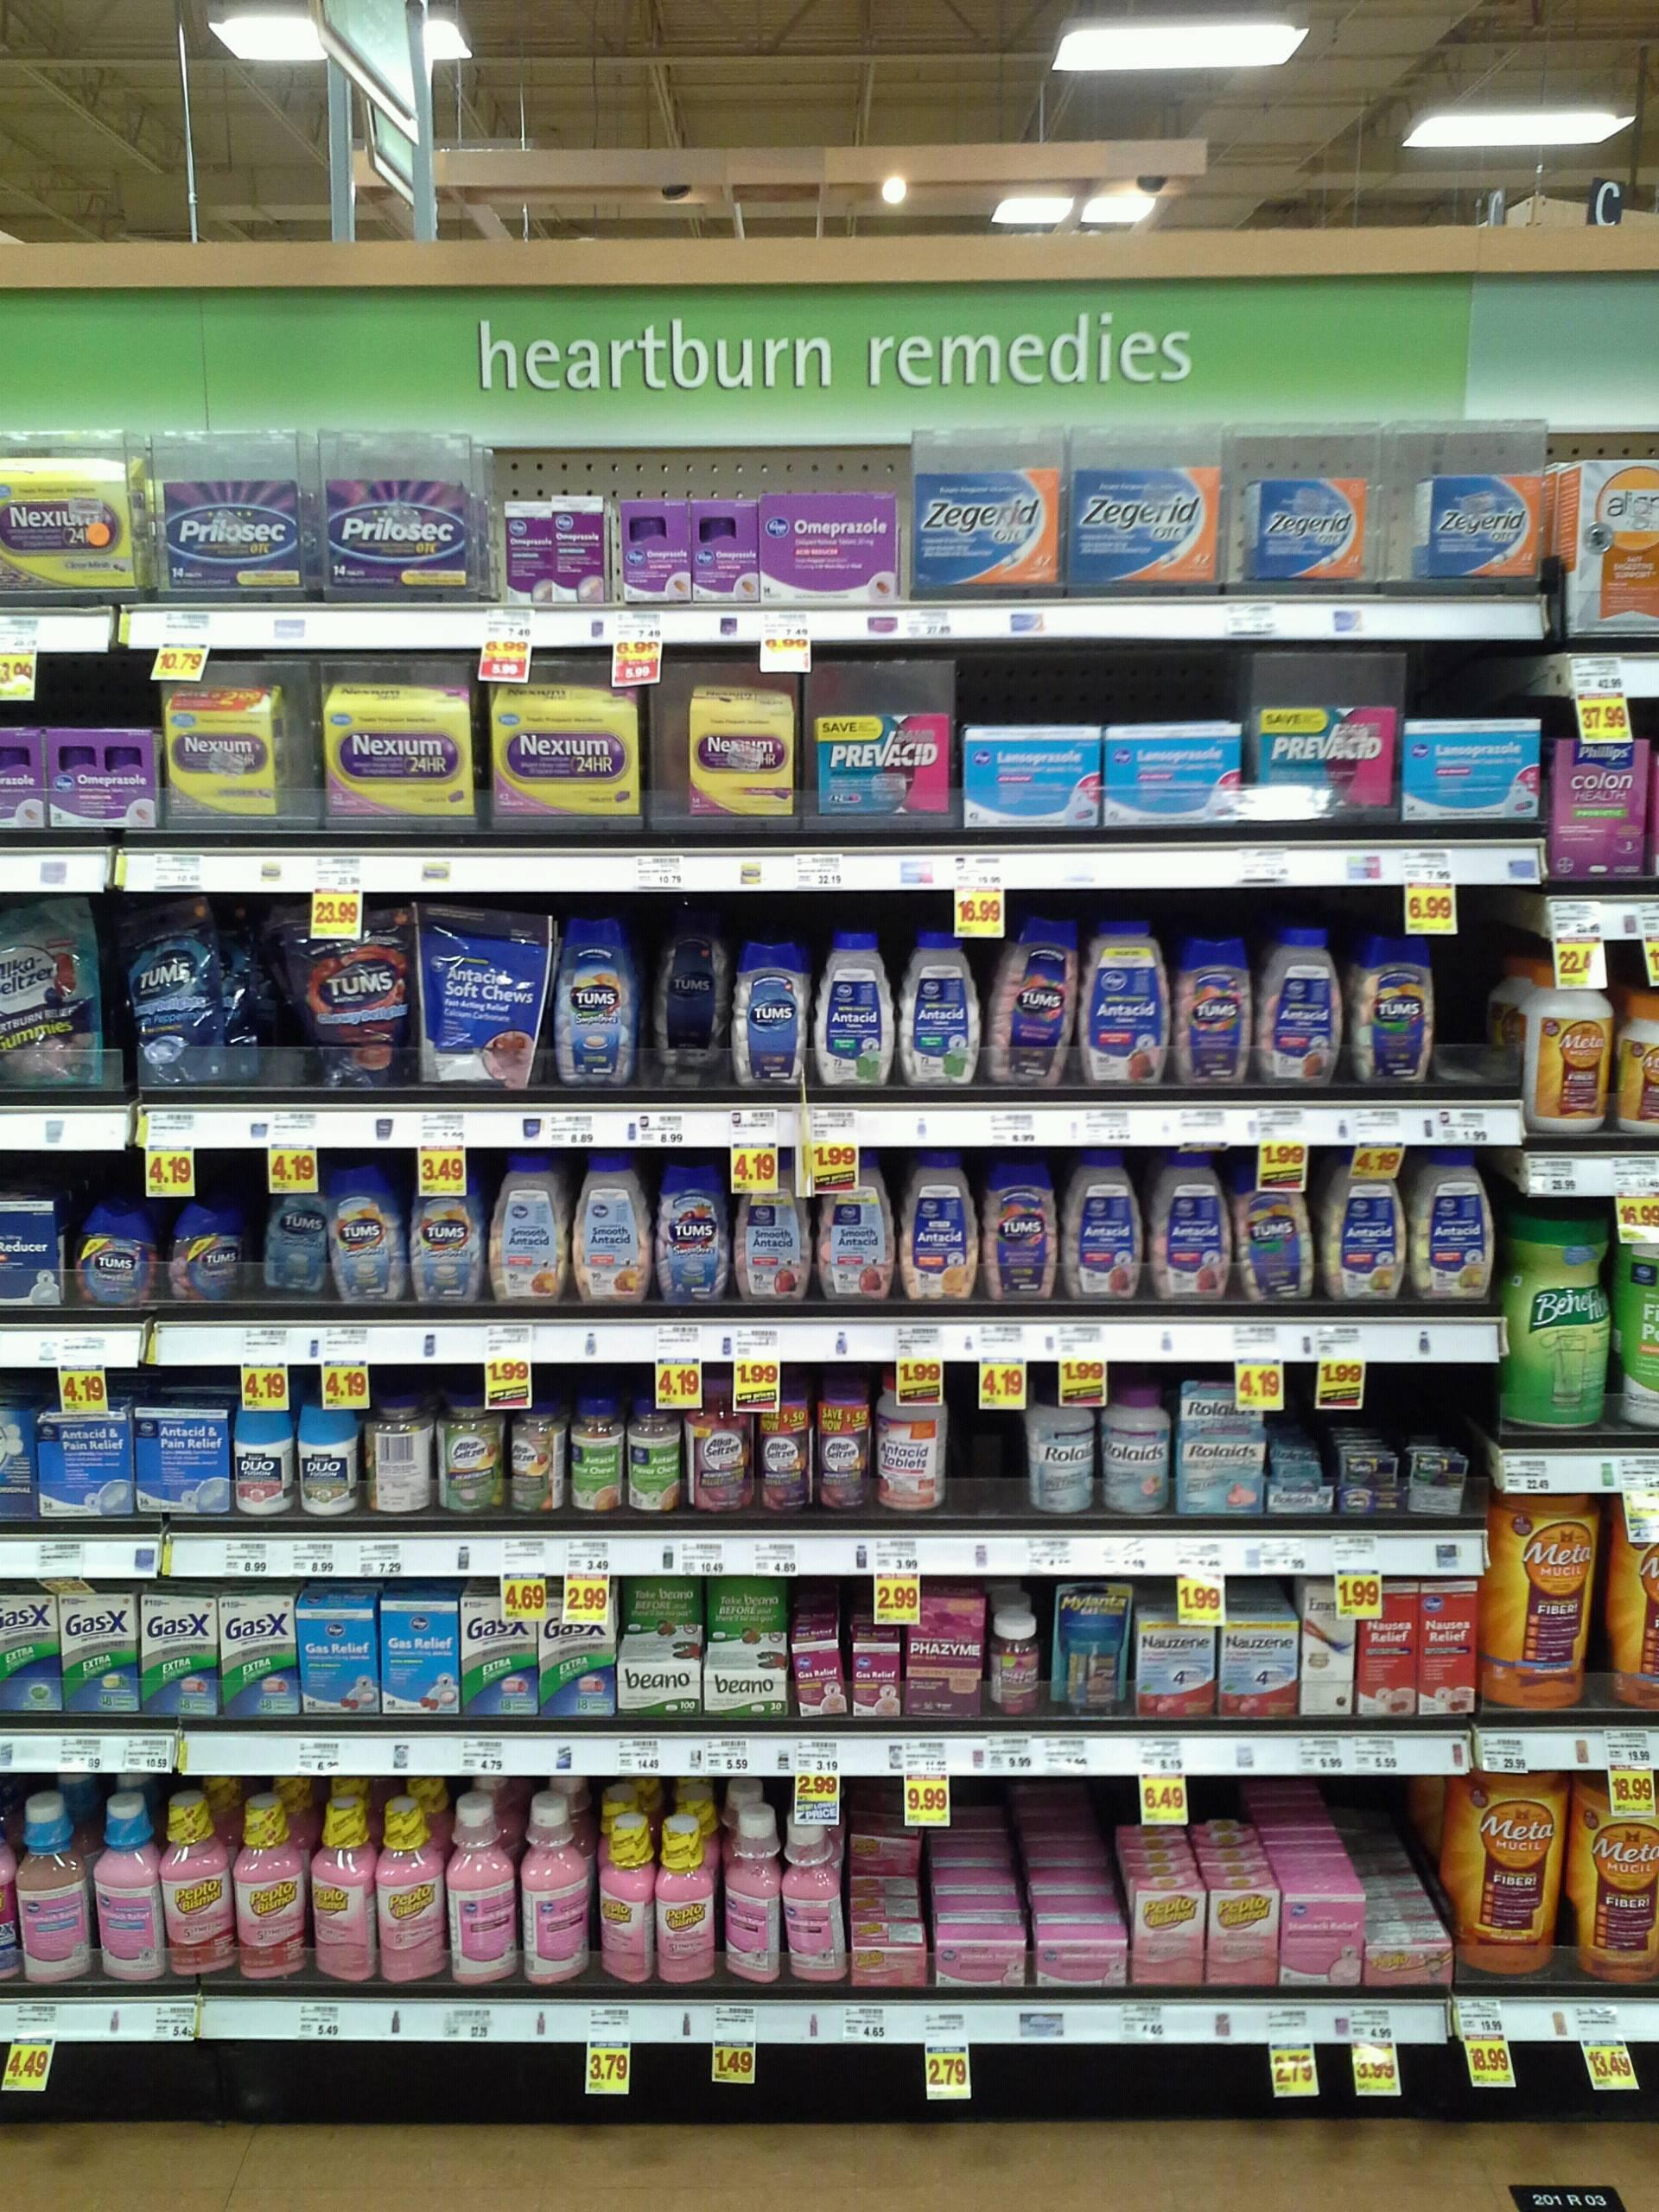misalignment: (985, 914, 1075, 1089), (1236, 1170, 1321, 1310), (176, 1202, 249, 1299)
